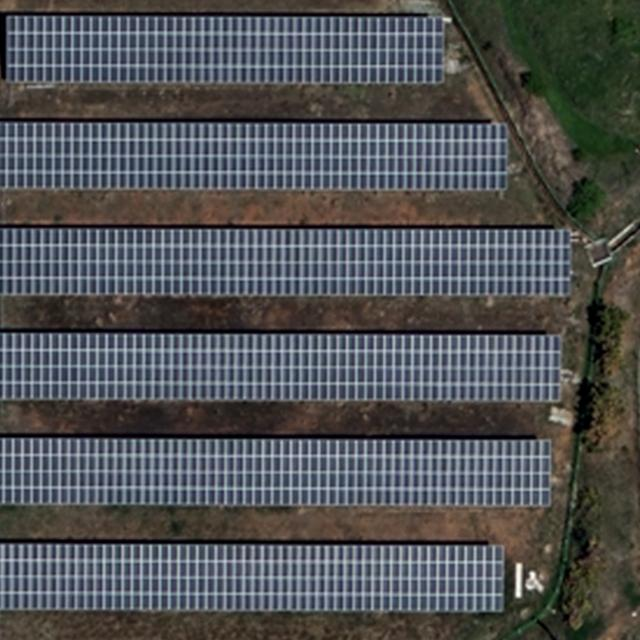panel: (1, 226, 570, 298), (1, 436, 550, 509), (1, 331, 562, 399), (1, 542, 505, 613), (1, 122, 509, 192), (5, 17, 445, 87)
